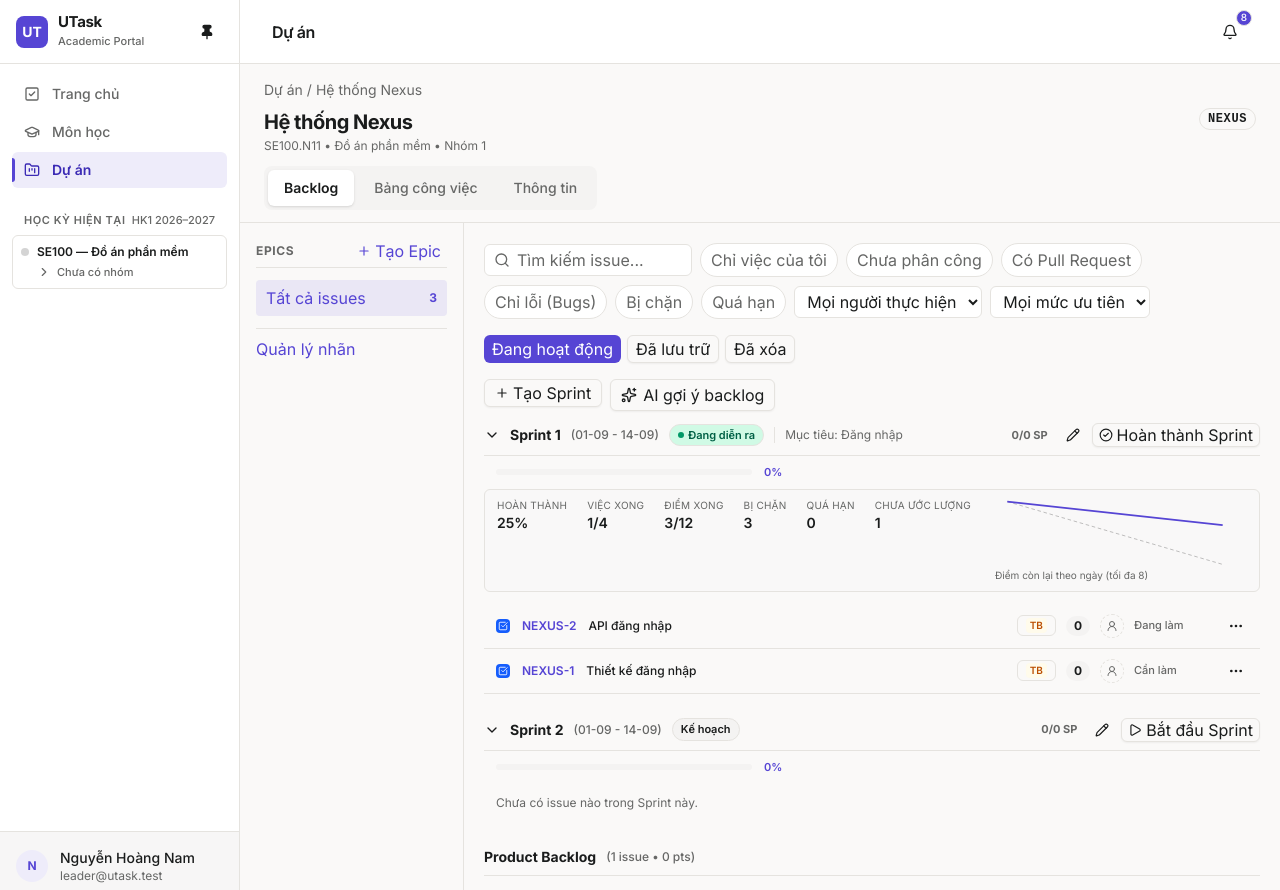
Test case: Sprint management on the Backlog › creates a sprint after blocking an end date before the start date on the client
Click the button "Tạo Sprint": click(543, 393) [484,379,602,407]
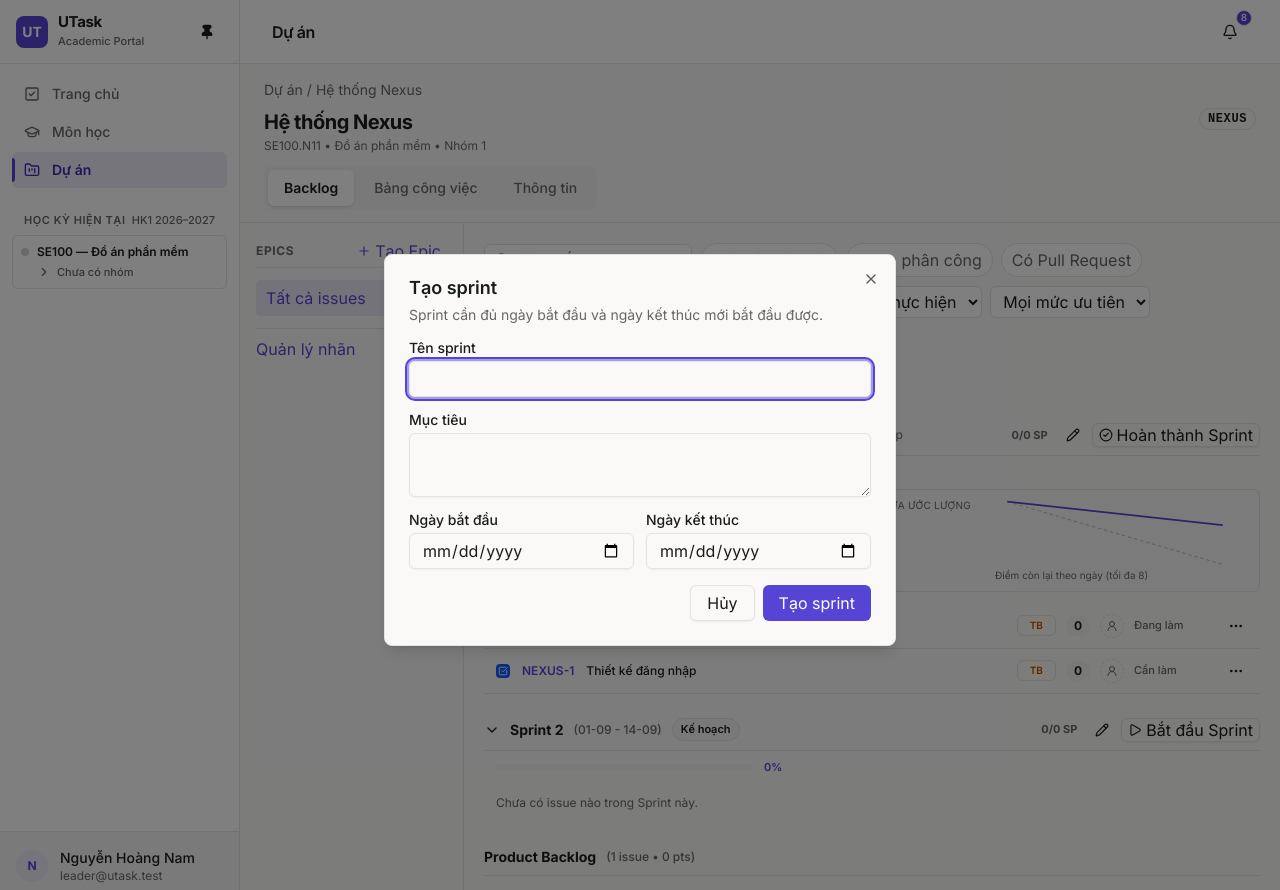
In the field labelled "Tên sprint": (640, 379) [409,361,871,397], type "Sprint 3"
In the date field labelled "Ngày bắt đầu": (522, 551) [409,533,634,569], type "2026-10-10"
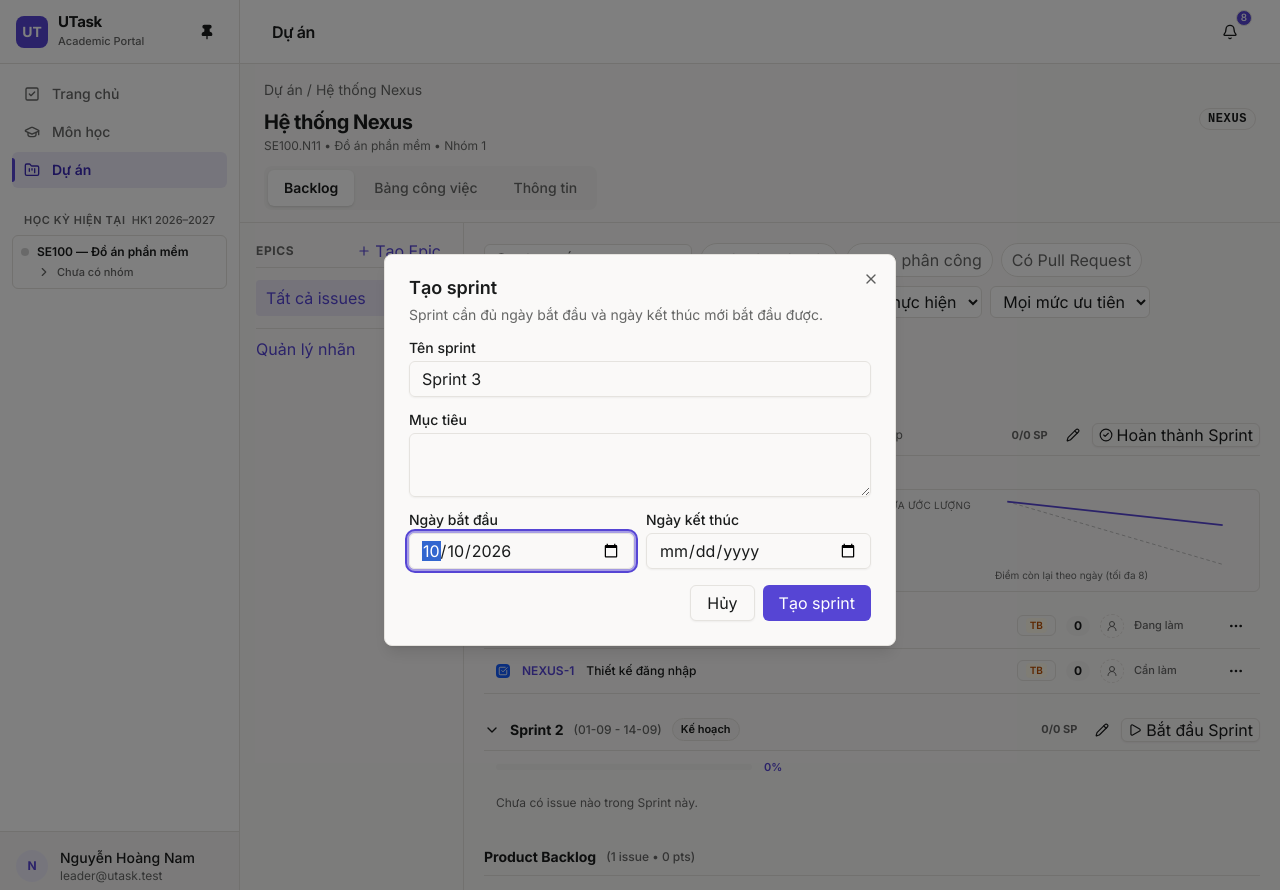
In the date field labelled "Ngày kết thúc": (758, 551) [646,533,871,569], type "2026-10-01"
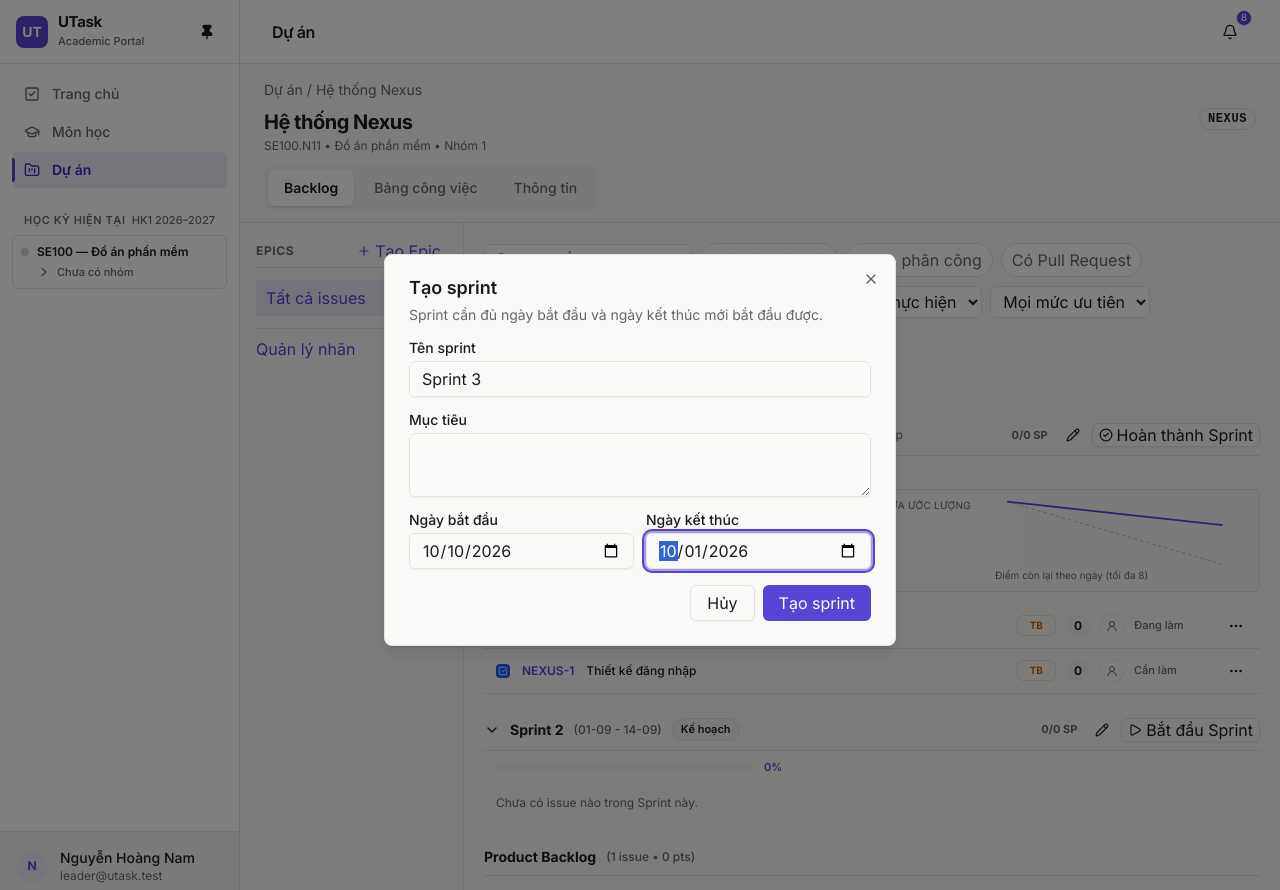
Click the button "Tạo sprint": click(817, 603) [763,585,871,621]
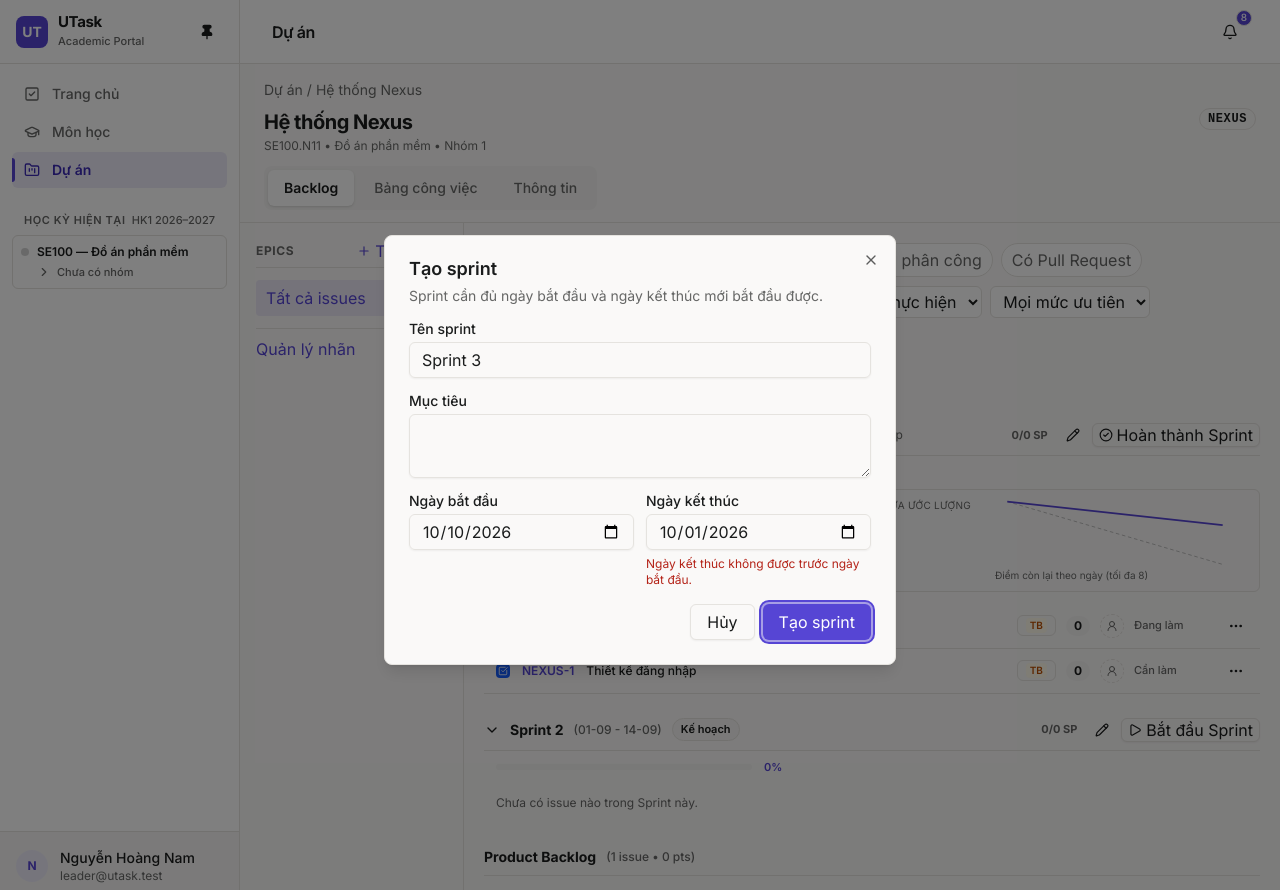
Result: the text "Ngày kết thúc không được trước ngày bắt đầu." is shown at [646,556,871,588]
Clear the date field labelled "Ngày kết thúc": (758, 532) [646,514,871,550]
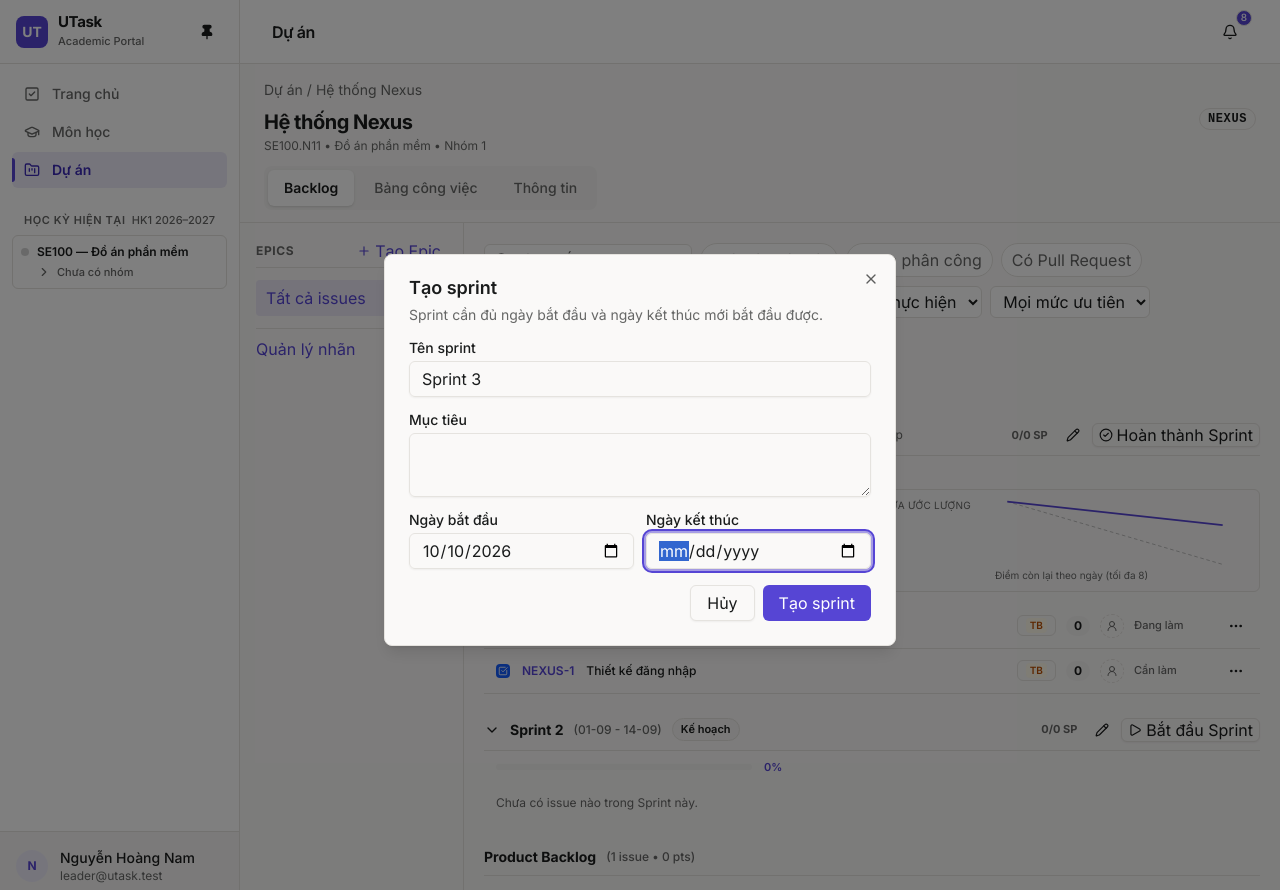
In the date field labelled "Ngày kết thúc": (758, 551) [646,533,871,569], type "2026-10-24"
Click the button "Tạo sprint": click(817, 603) [763,585,871,621]
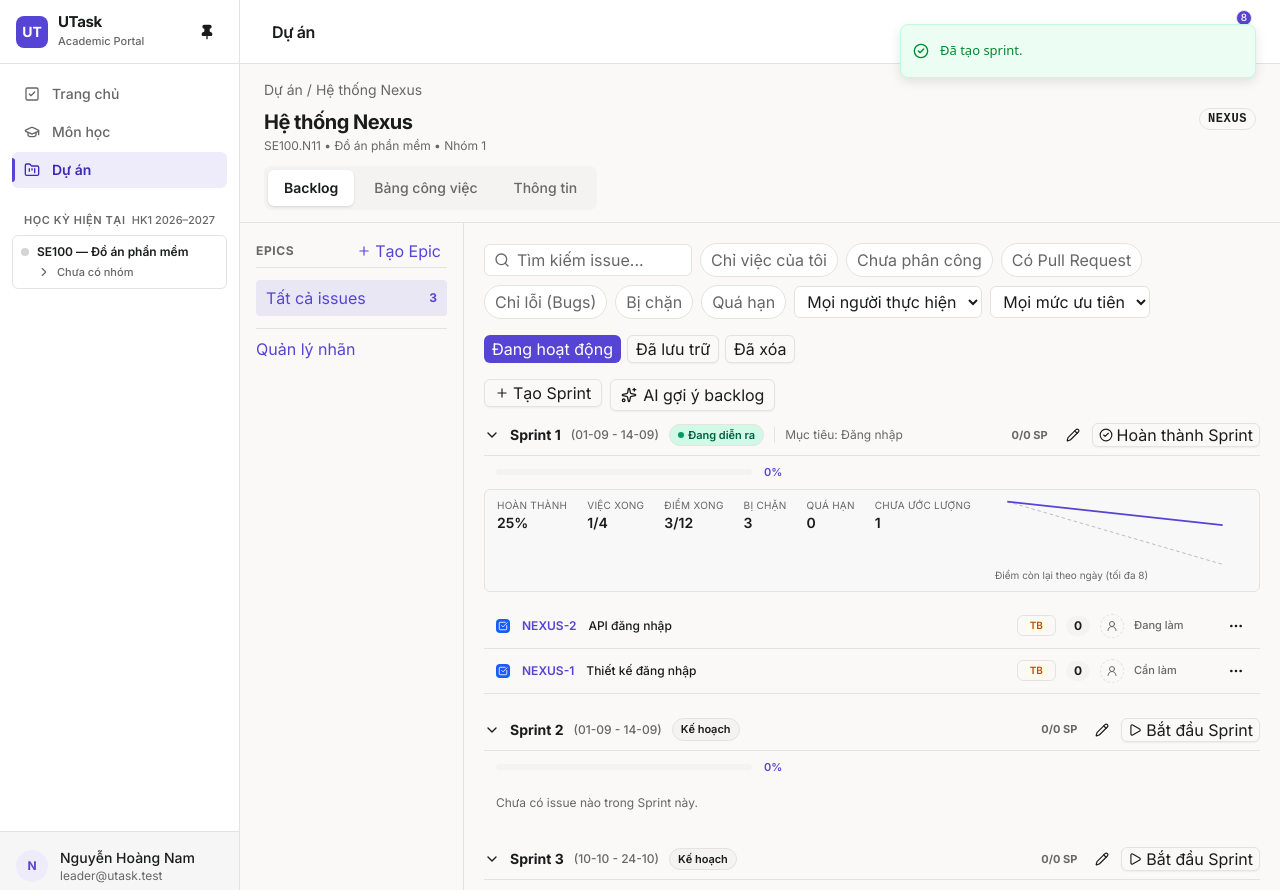
Result: the heading "Sprint 3" is shown at [510,849,564,869]
